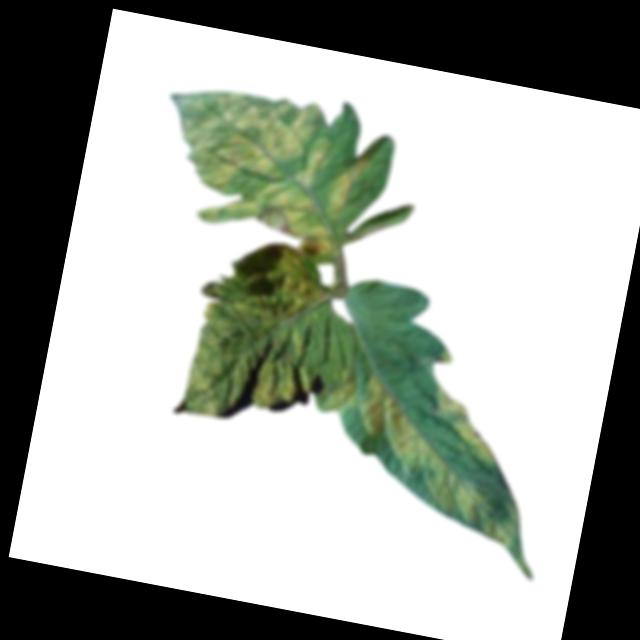Leaf_Mold: (300, 358, 545, 550), (146, 75, 389, 255), (172, 227, 334, 438), (424, 383, 505, 464)
